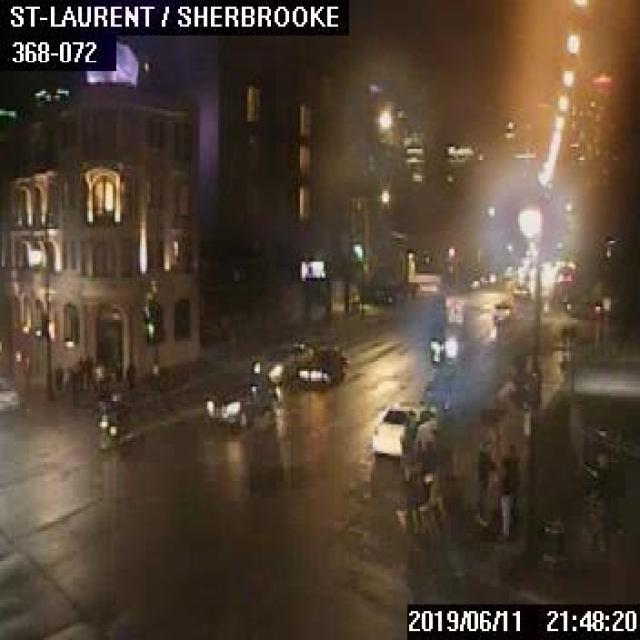pedestrian: (474, 438, 493, 527), (495, 457, 511, 537), (505, 441, 520, 518), (84, 353, 95, 390), (124, 356, 135, 388), (113, 354, 121, 388), (76, 355, 83, 389), (54, 361, 62, 390)
vehicle: (202, 370, 275, 422), (370, 403, 437, 456), (250, 339, 314, 382), (95, 391, 132, 446), (296, 348, 347, 382), (428, 324, 464, 362), (0, 374, 18, 414), (491, 300, 512, 321), (511, 282, 528, 299)
